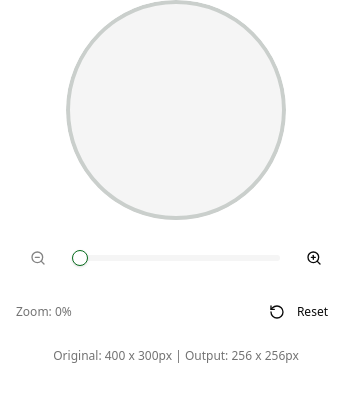
it: ImageCropEditor › Zoom Behavior › shows move indicator when zoomed in
Expected: the text "Drag to reposition the image" is not shown
Click zoom in
Click the button with test id "zoom-in-btn" at (314, 258), box [292,236,336,280]
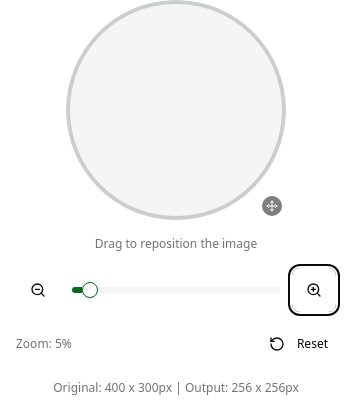
Now the text "Drag to reposition the image" is shown, box [95,236,257,252]
